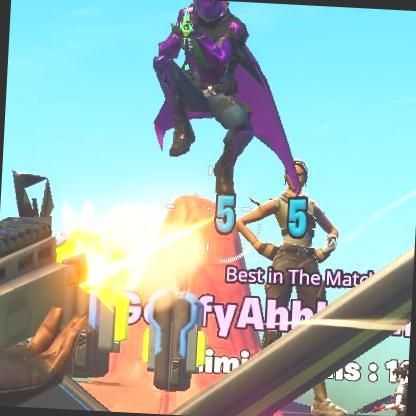person: (143, 0, 313, 188)
